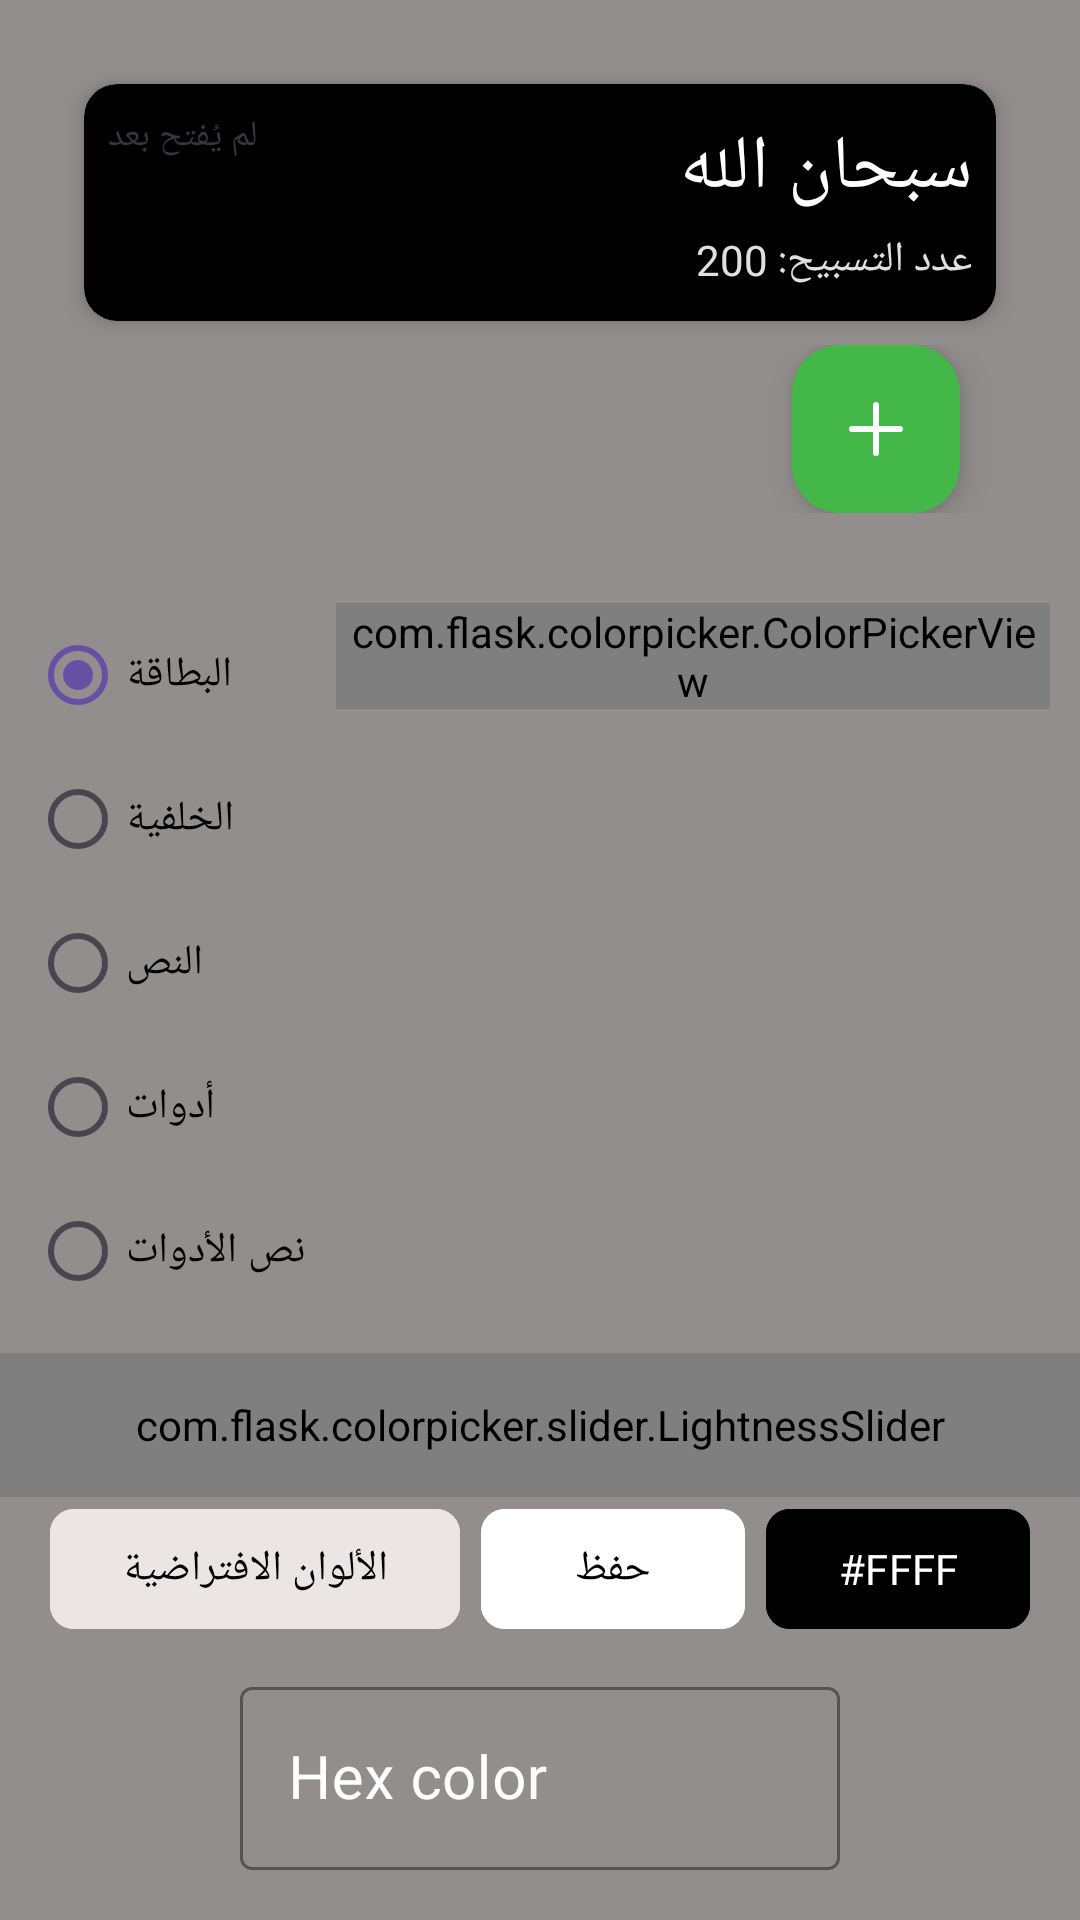

Icon click points for this 1080px×1920px phone screenshot, format (x=x, y=y):
Add zeker: (x=876, y=429)
